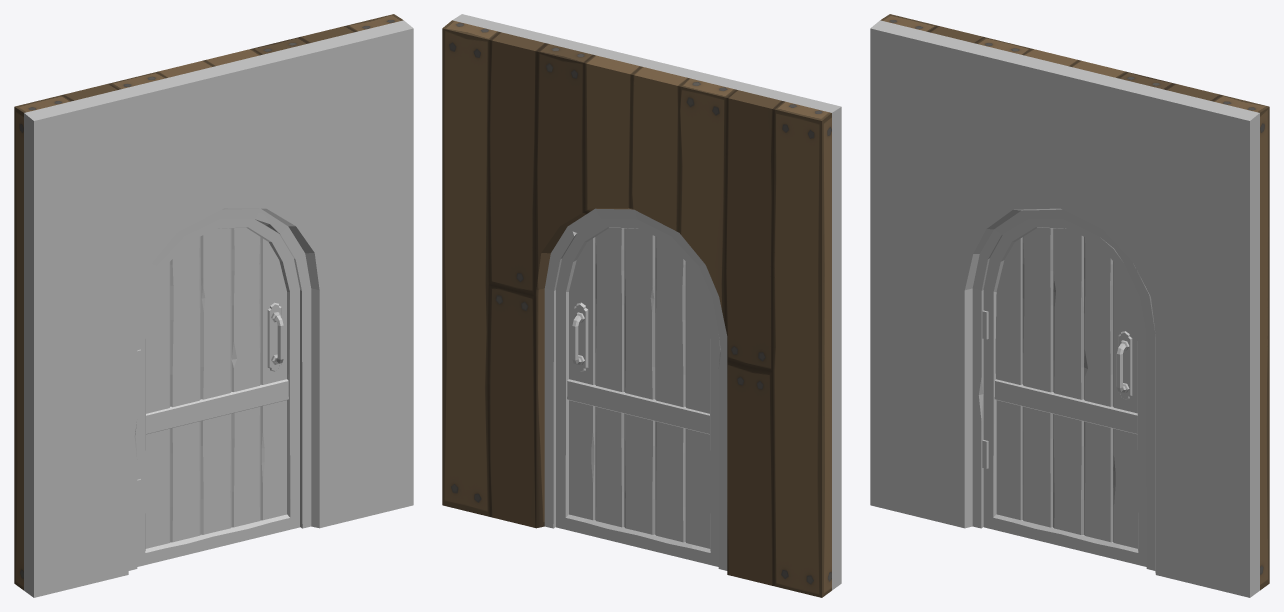
The model's file is SM_Bld_Villa_Wall_Door_01.fbx.
3 renders of one model, left to right at view 1: azimuth 30°, elevation 25°; view 2: azimuth 150°, elevation 25°; view 3: azimuth 330°, elevation 25°, orthographic.
Visible parts, largest first — view 1: SM_Bld_Villa_Wall_Door_01, SM_Bld_Villa_Wall_Door_01_Door; view 2: SM_Bld_Villa_Wall_Door_01, SM_Bld_Villa_Wall_Door_01_Door; view 3: SM_Bld_Villa_Wall_Door_01, SM_Bld_Villa_Wall_Door_01_Door.
Part boxes in pixels (x1,y1,x2,y2): SM_Bld_Villa_Wall_Door_01: [14, 14, 413, 597]; SM_Bld_Villa_Wall_Door_01_Door: [135, 219, 299, 566]; SM_Bld_Villa_Wall_Door_01: [442, 14, 841, 597]; SM_Bld_Villa_Wall_Door_01_Door: [556, 219, 719, 566]; SM_Bld_Villa_Wall_Door_01: [870, 14, 1269, 597]; SM_Bld_Villa_Wall_Door_01_Door: [982, 219, 1146, 566].
Bounding box in the file's own units: 250 × 301 × 23.17.
